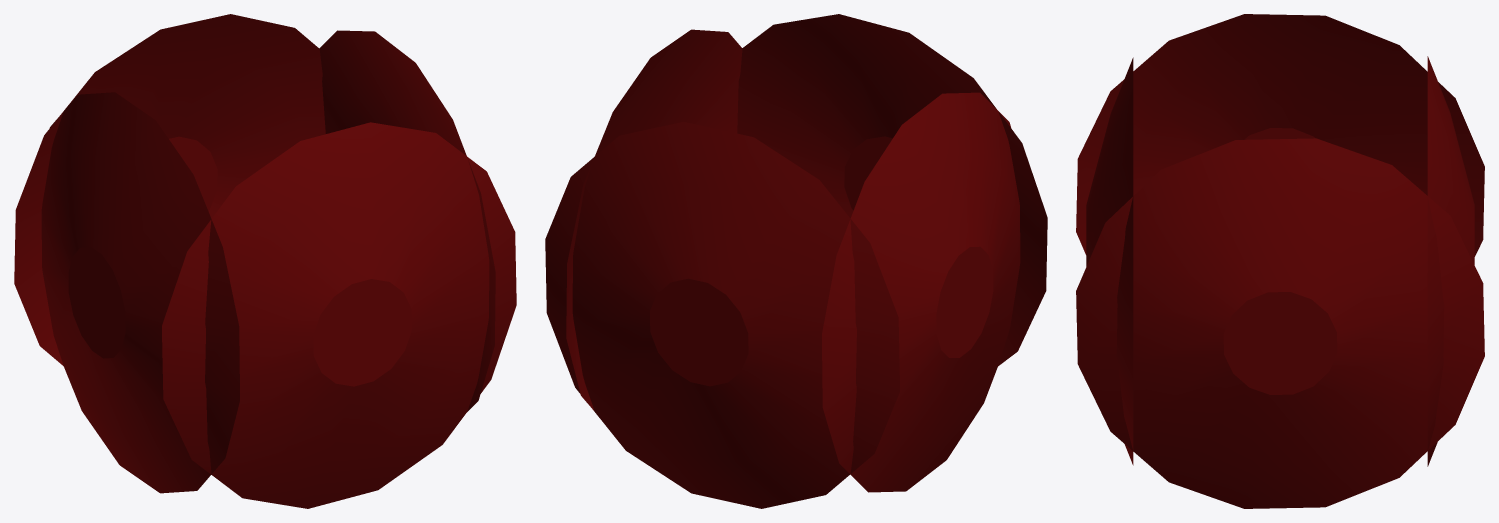
The model's file is esferas_internas_robot.FBX.
3 views of the same model, side by side, from view 1: azimuth 30°, elevation 25°; view 2: azimuth 150°, elevation 25°; view 3: azimuth 270°, elevation 25° (orthographic).
Parts seen in each view (by area): view 1: Esferas_dentro; view 2: Esferas_dentro; view 3: Esferas_dentro.
Boxes of the visible parts, left/top/right/bottom form: Esferas_dentro: left=14, top=14, right=516, bottom=508; Esferas_dentro: left=545, top=14, right=1047, bottom=508; Esferas_dentro: left=1076, top=14, right=1484, bottom=508.
Bounding box in the file's own units: 79.6 × 79.6 × 79.6.
